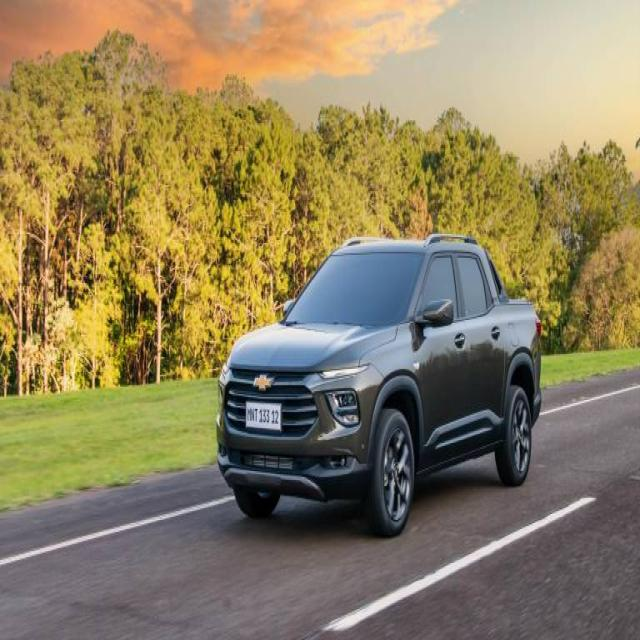CMT: (213, 240, 544, 541)
